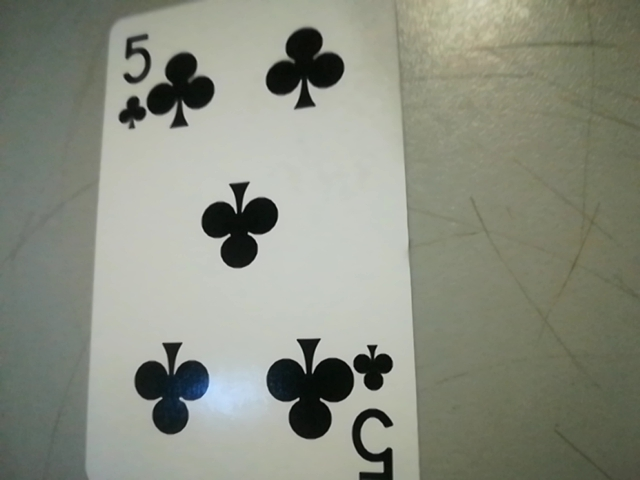mh 5: (352, 340, 396, 480)
